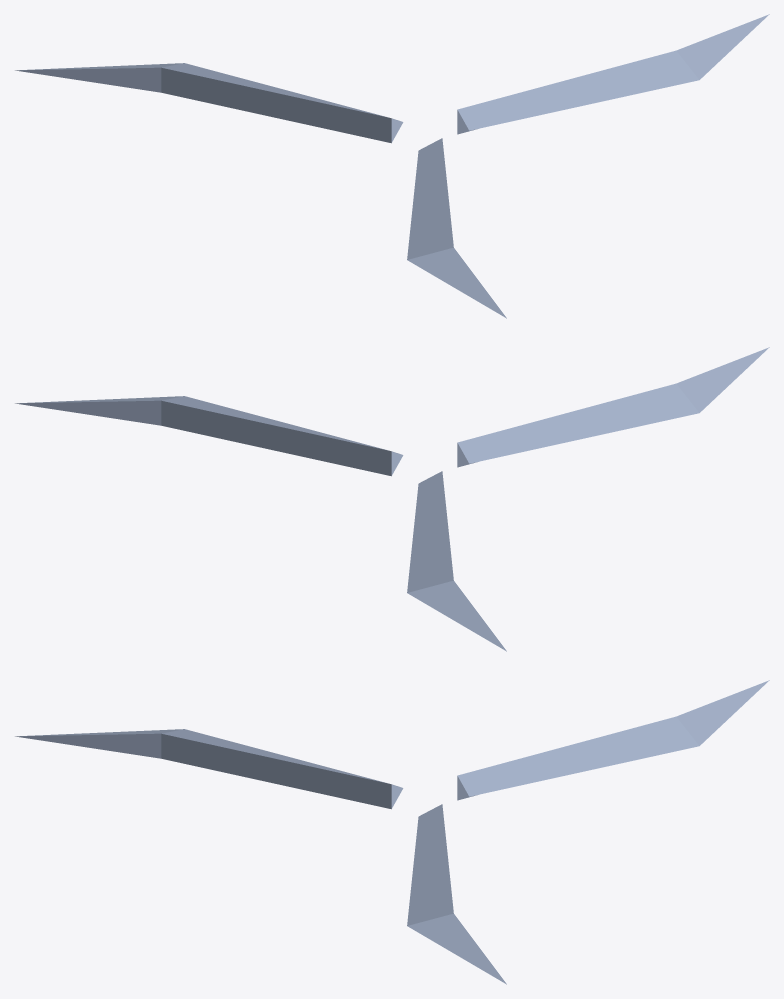
File: n2_blade_trap_light_grey_0_lev2.003.glb
3 views of the same model, one above another, from view 1: azimuth 30°, elevation 25°; view 2: azimuth 150°, elevation 25°; view 3: azimuth 270°, elevation 25° (orthographic).
Parts seen in each view (by area): view 1: n2_blade_trap_light_grey_0_lev2.003; view 2: n2_blade_trap_light_grey_0_lev2.003; view 3: n2_blade_trap_light_grey_0_lev2.003.
Part boxes in pixels (x1,y1,x2,y2): n2_blade_trap_light_grey_0_lev2.003: (15,14,769,318); n2_blade_trap_light_grey_0_lev2.003: (15,347,769,651); n2_blade_trap_light_grey_0_lev2.003: (15,680,769,984).
Size of the model in its own units: 5.16 by 0.1978 by 5.41.
